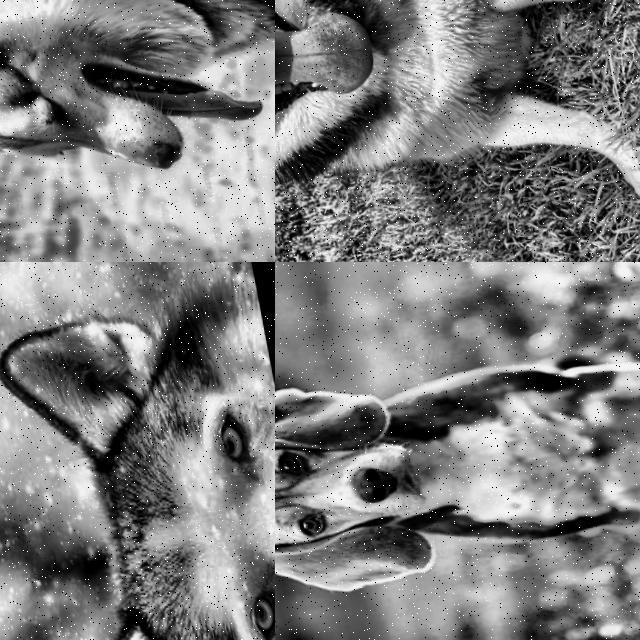beagle: (275, 353, 488, 620)
husky: (0, 262, 275, 640), (0, 0, 275, 219), (275, 0, 431, 241)
